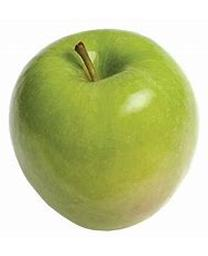apple: (8, 28, 199, 230)
